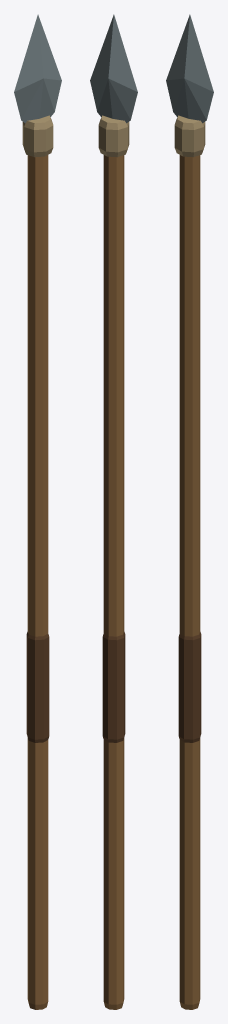
Rendered from SpearStone.fbx.
3 renders of one model, left to right at view 1: azimuth 30°, elevation 25°; view 2: azimuth 150°, elevation 25°; view 3: azimuth 330°, elevation 25°, orthographic.
Visible parts, largest first — view 1: SpearStone; view 2: SpearStone; view 3: SpearStone.
Boxes of the visible parts, x1,y1,x2,y2 form: SpearStone: (14,14,61,1009); SpearStone: (90,14,137,1009); SpearStone: (166,14,213,1009).
Bounding box in the file's own units: 10.4 × 205 × 6.
